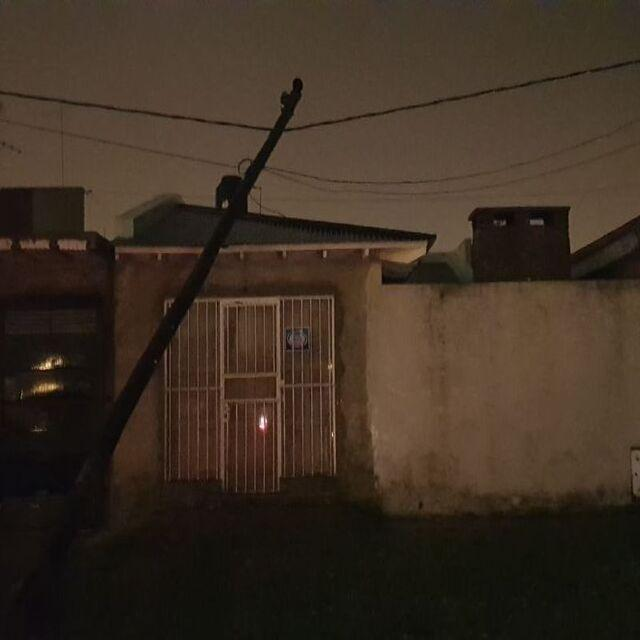Inclined Pole: (0, 75, 310, 613)
